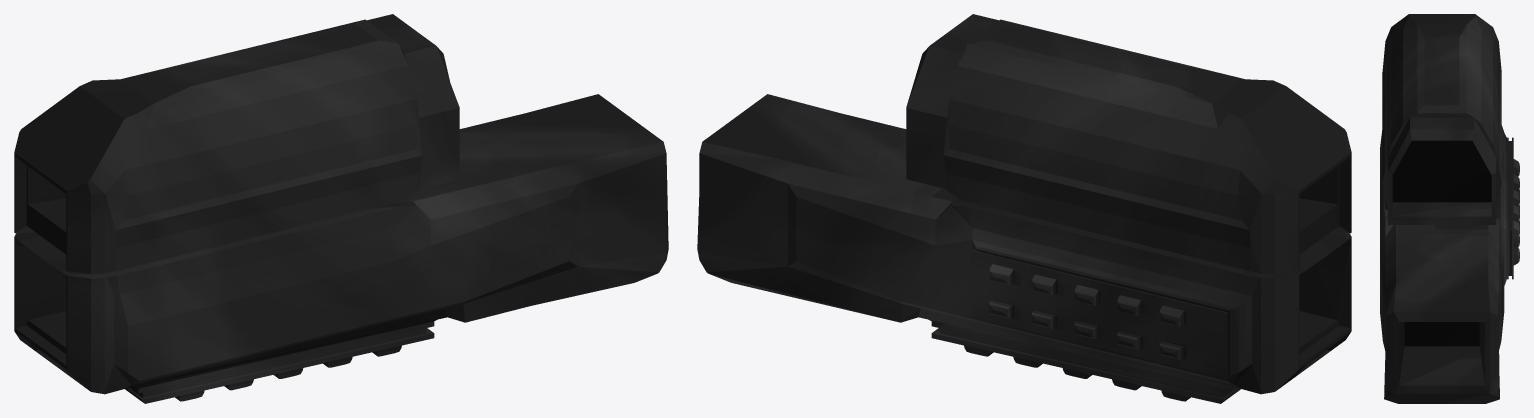
Rendered from ForearmPolymer.fbx.
3 views of the same model, side by side, from view 1: azimuth 30°, elevation 25°; view 2: azimuth 150°, elevation 25°; view 3: azimuth 270°, elevation 25° (orthographic). The views are drawn at different scales.
Parts seen in each view (by area): view 1: ForearmPolymer; view 2: ForearmPolymer; view 3: ForearmPolymer.
Part boxes in pixels (box(x1,y1,x2,y2)): ForearmPolymer: box(14, 14, 668, 403); ForearmPolymer: box(697, 14, 1351, 403); ForearmPolymer: box(1380, 14, 1519, 403).
Size of the model in its own units: 39.75 by 19.98 by 10.9.
1 material, 1 textured.
